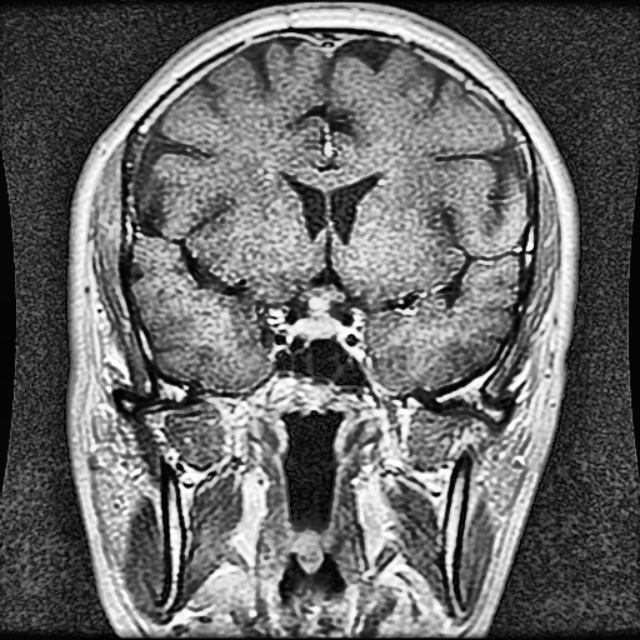Pituitary: (292, 295, 342, 340)
